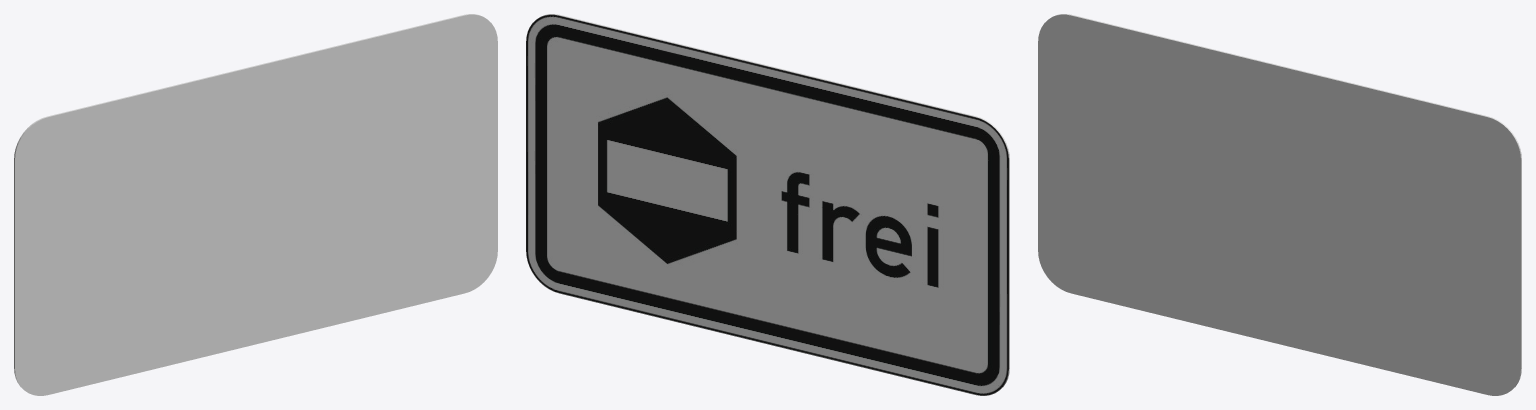
3 renders of one model, left to right at view 1: azimuth 30°, elevation 25°; view 2: azimuth 150°, elevation 25°; view 3: azimuth 330°, elevation 25°, orthographic.
Parts seen in each view (by area): view 1: Plane; view 2: Plane; view 3: Plane.
Part boxes in pixels (<box>): Plane: <box>14,14,497,395</box>; Plane: <box>526,14,1009,395</box>; Plane: <box>1038,14,1521,395</box>.
Size of the model in its own units: 0.6 by 0.33 by 0.002.
2 materials, 1 textured.
